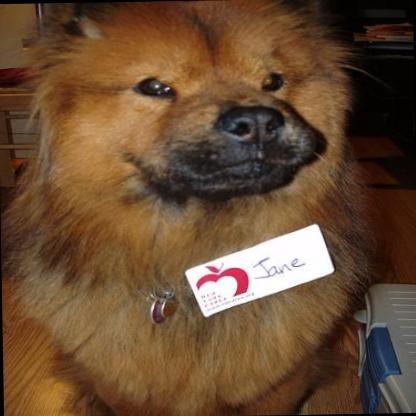chow: (0, 0, 388, 416)
